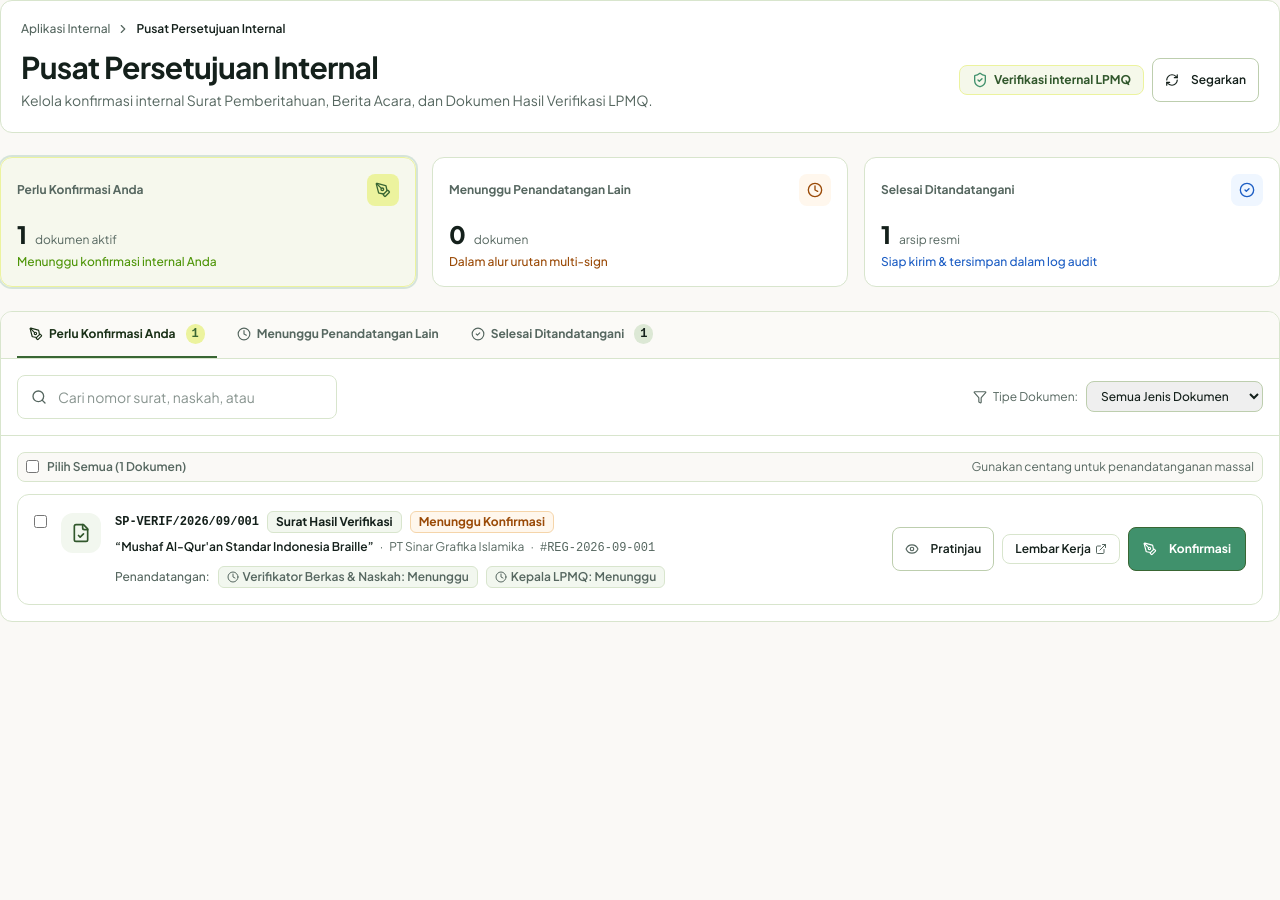
Scenario: SignatureCenterPage Component › berpindah ke tab Selesai Ditandatangani dan menampilkan arsip
Click the button "Selesai Ditandatangani 1" at (562, 341), box [459,324,665,358]
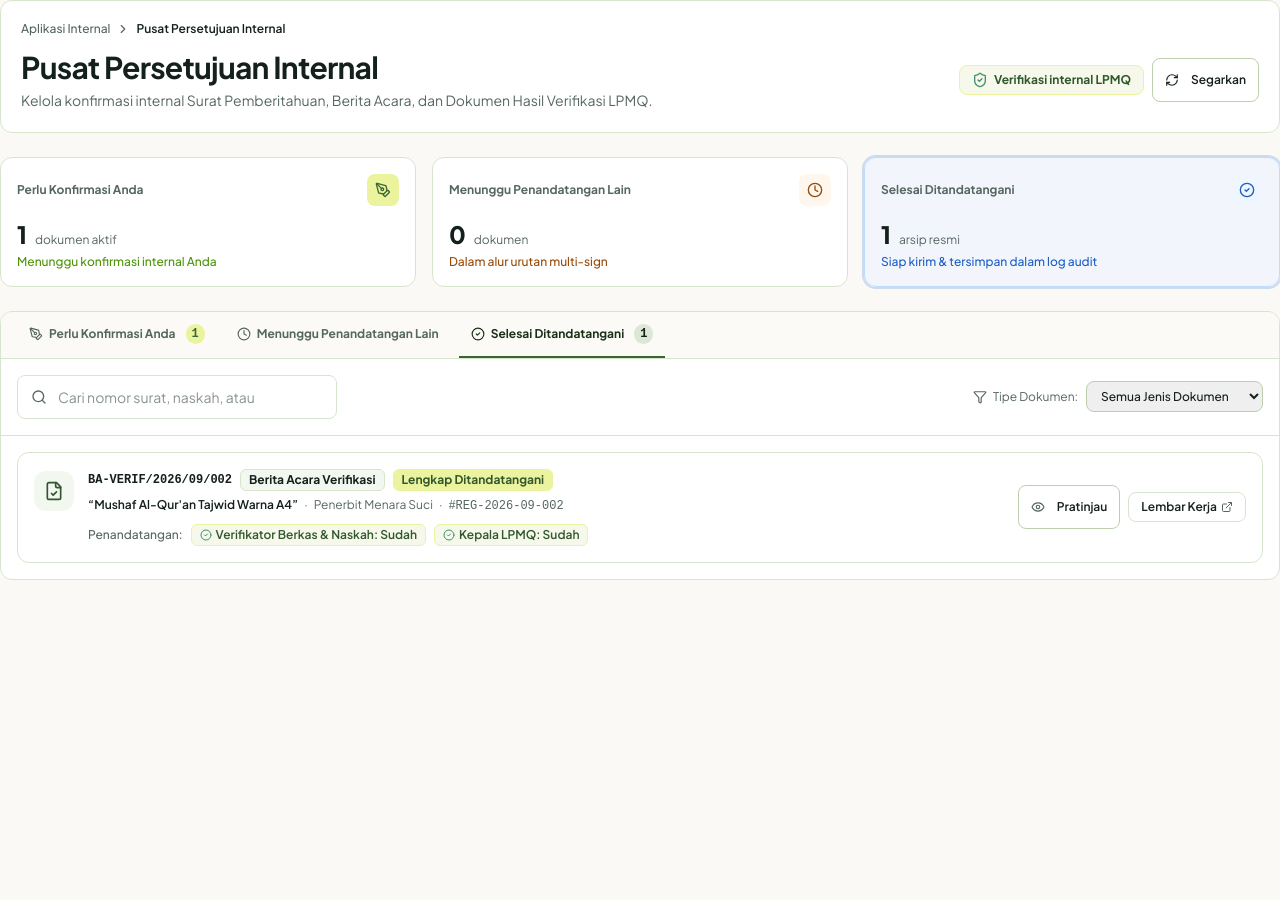
Expected: the text "BA-VERIF/2026/09/002" is shown, [88,472,232,488]
Expected: the text "“Mushaf Al-Qur'an Tajwid Warna A4”" is shown, [88,497,298,512]
Expected: the text "Lengkap Ditandatangani" is shown, [392,469,553,491]
